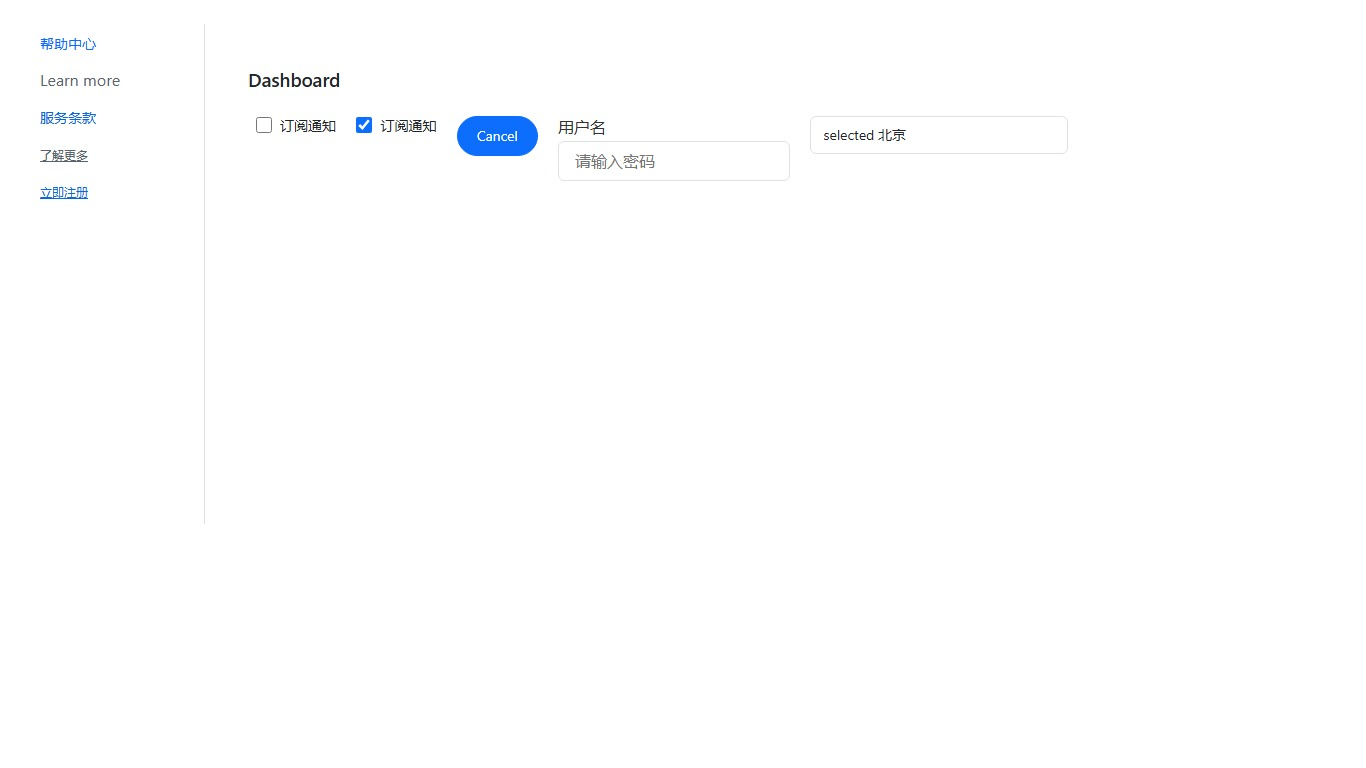button: (457, 116, 538, 156)
checkbox: (256, 117, 272, 133), (356, 117, 372, 133)
icon: (280, 116, 336, 135), (380, 116, 436, 135)
input: (558, 141, 790, 181)
link: (40, 69, 120, 90), (40, 34, 96, 53), (40, 108, 96, 127), (40, 147, 88, 163), (40, 184, 88, 200)
radio: (256, 116, 336, 135), (356, 116, 436, 135)
select: (810, 116, 1068, 154)
